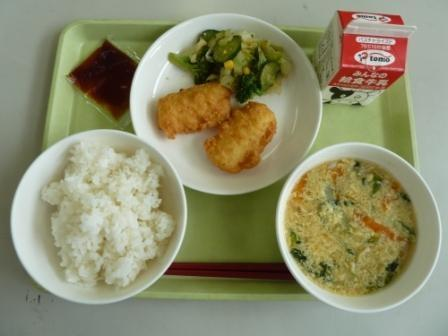Milk: (312, 8, 417, 105)
Rice: (14, 139, 177, 304)
Salad: (174, 25, 295, 96)
Soups: (286, 148, 435, 300)
cutlet: (155, 85, 280, 165)
